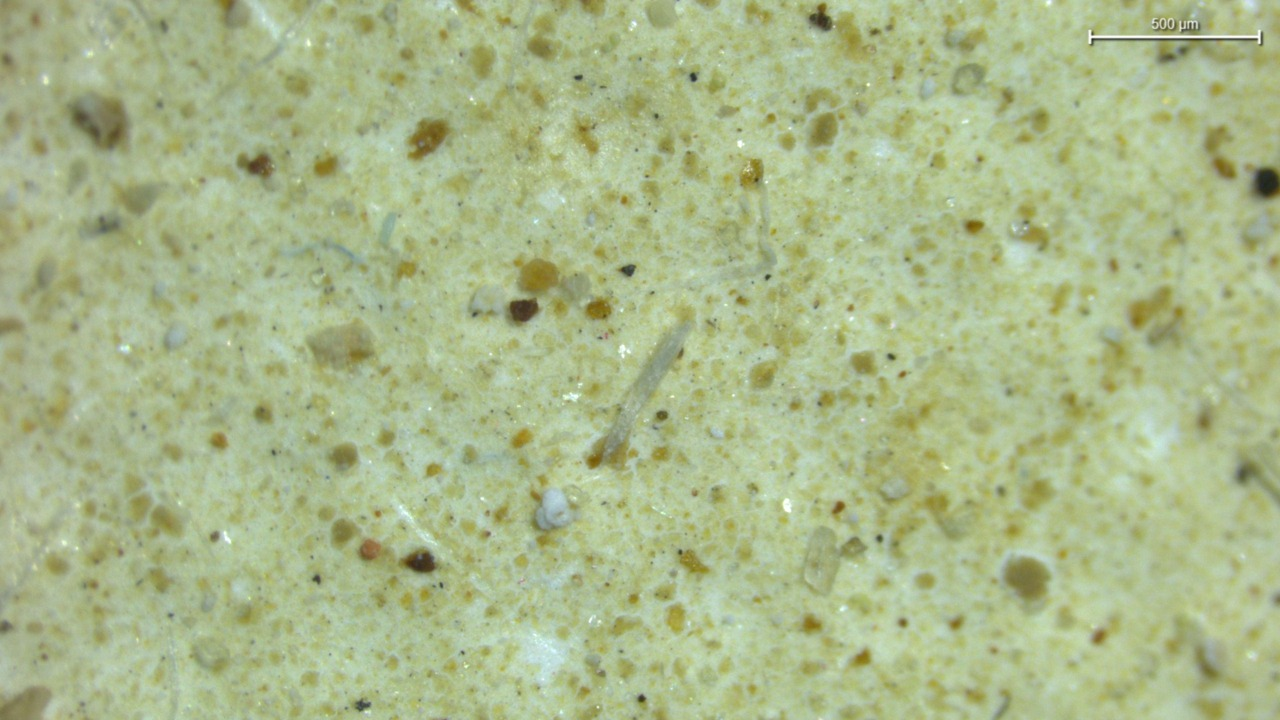microplastic_fragment: (804, 527, 840, 592), (534, 488, 575, 530)
